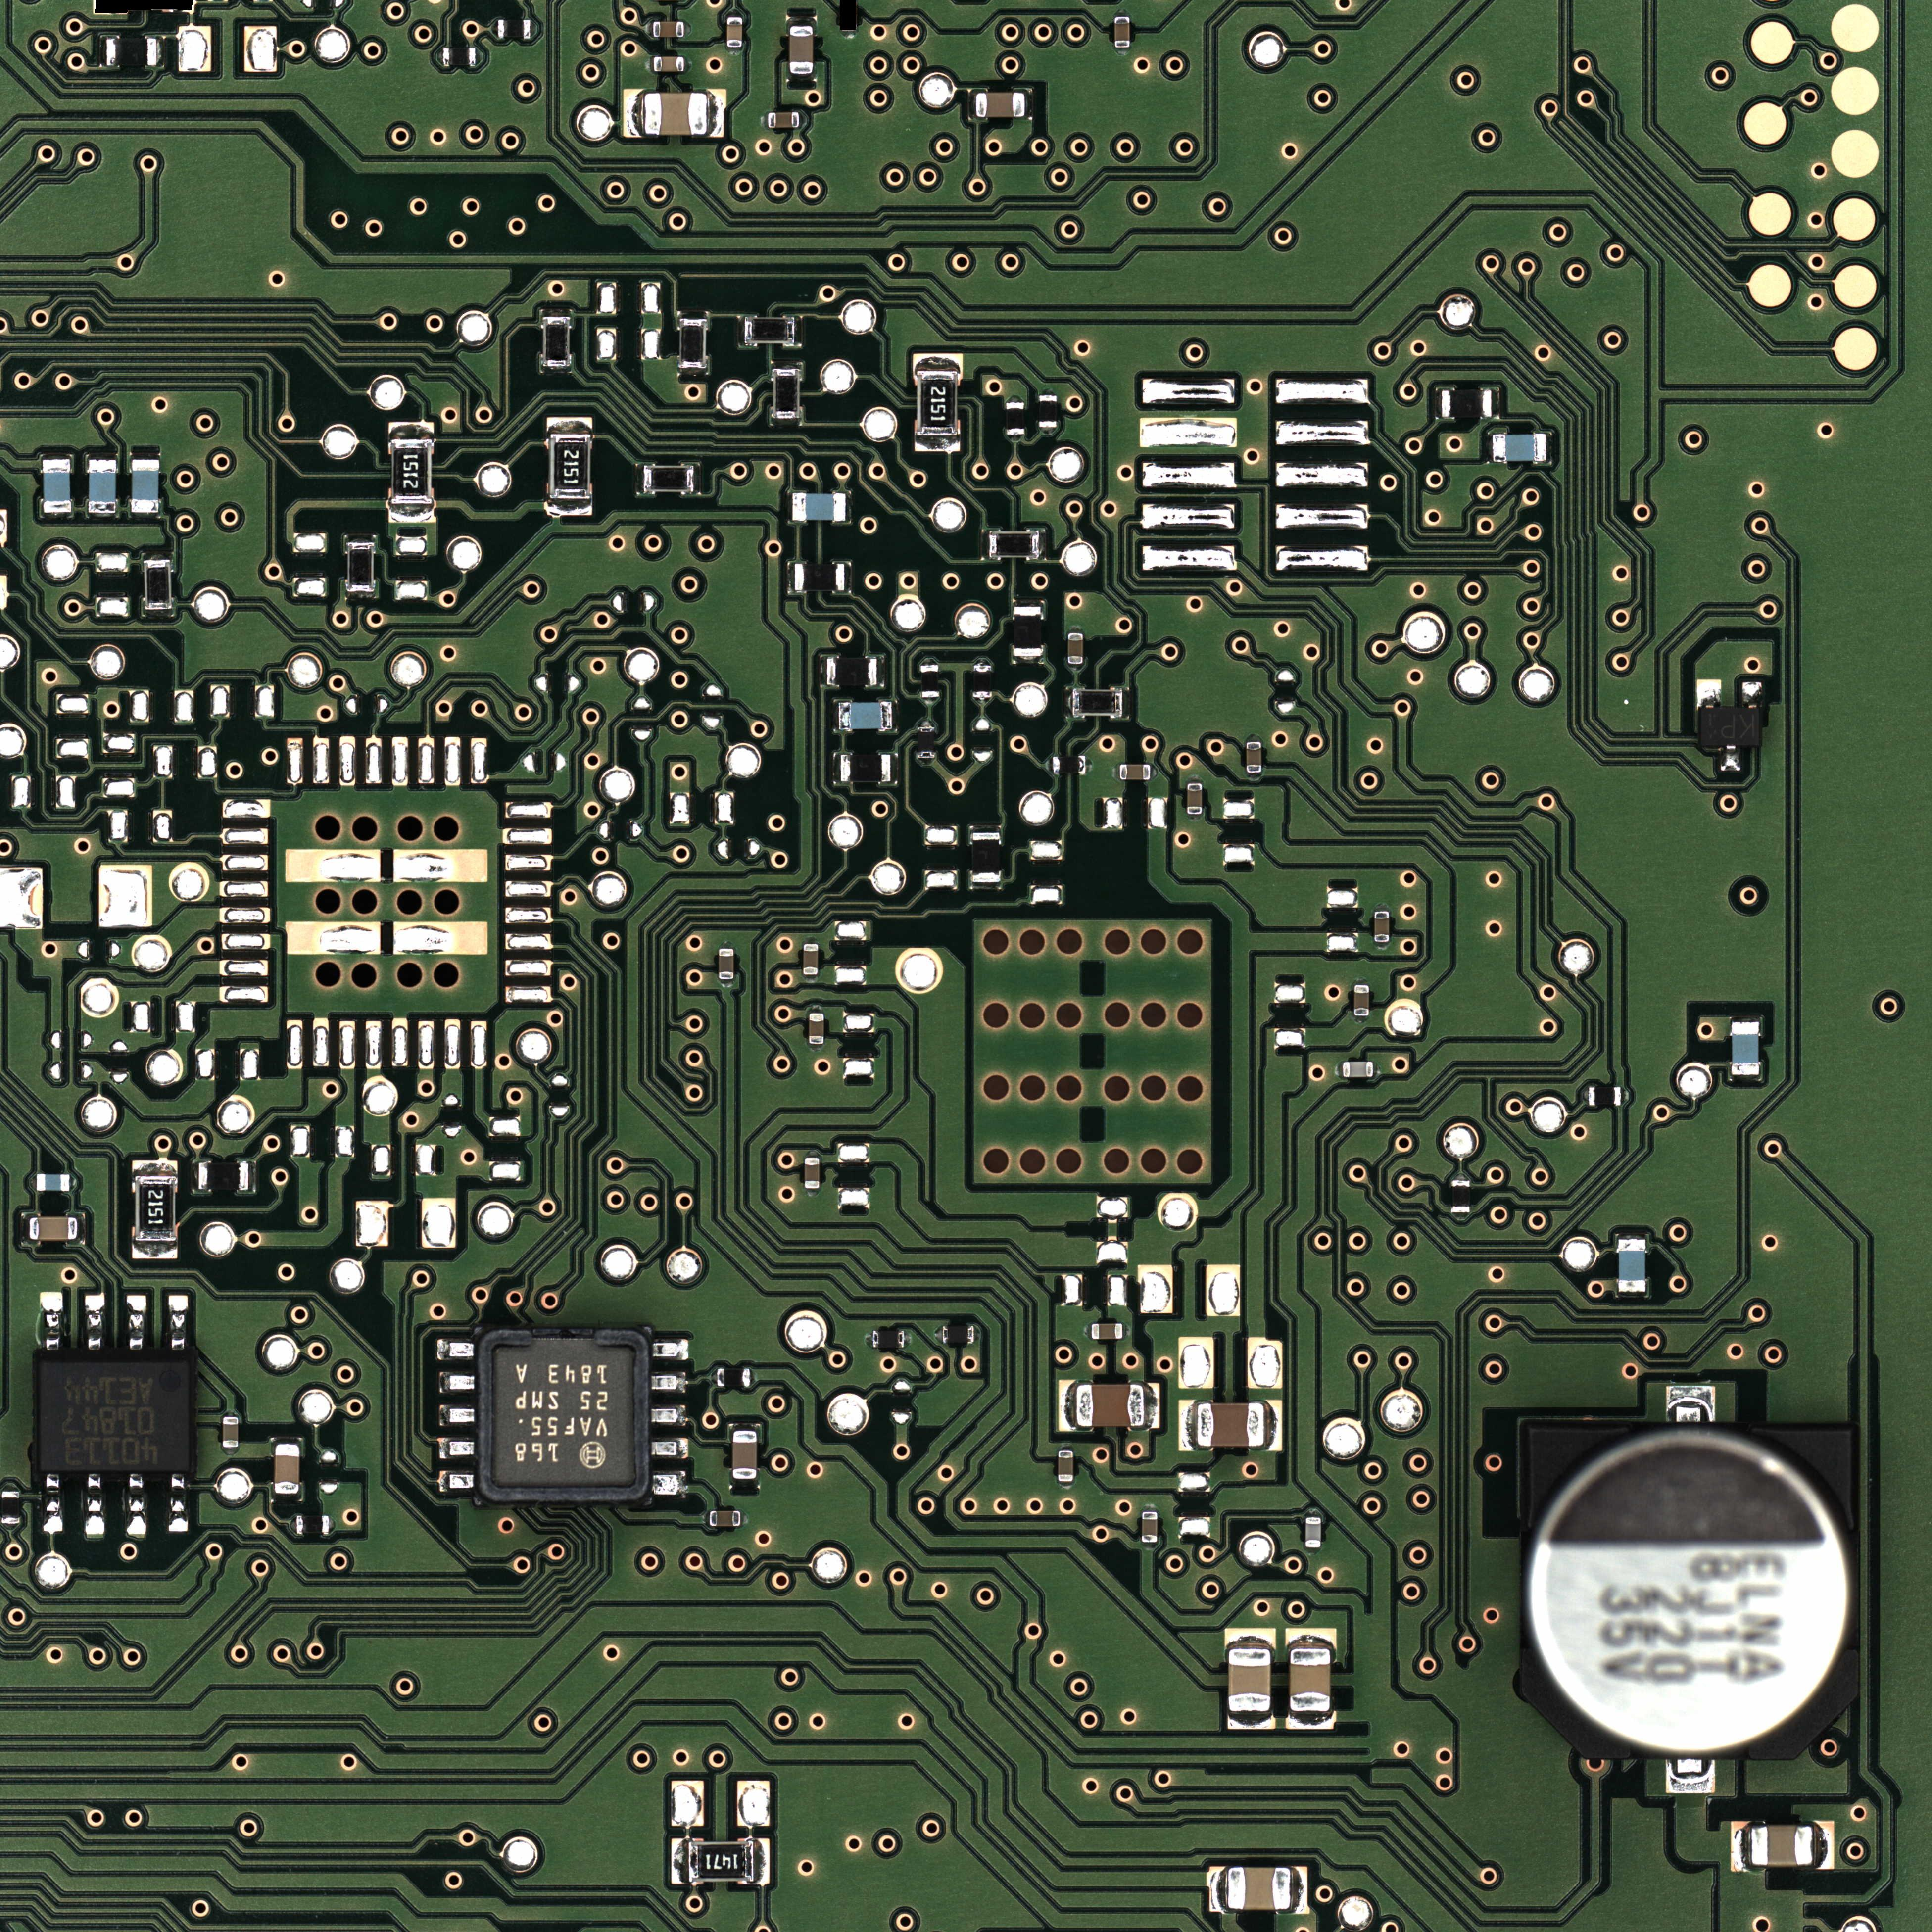Package: (1516, 1419, 1859, 1757), (476, 1334, 649, 1497), (39, 1362, 189, 1472), (1198, 1403, 1265, 1445), (1076, 1385, 1145, 1426), (391, 441, 433, 504), (136, 1177, 177, 1242), (688, 1842, 754, 1882), (1228, 1649, 1270, 1711), (916, 372, 957, 435), (550, 435, 591, 499), (1290, 1649, 1330, 1713), (644, 94, 706, 134), (1752, 1826, 1813, 1867), (1228, 1868, 1290, 1909), (1698, 708, 1760, 747), (1493, 433, 1546, 462), (131, 460, 159, 513), (88, 460, 117, 513), (42, 460, 71, 513), (826, 658, 878, 686), (1619, 1238, 1645, 1292), (1732, 1023, 1759, 1076), (839, 702, 892, 729), (839, 702, 892, 729), (793, 494, 846, 520), (793, 494, 846, 520), (1442, 389, 1491, 418), (106, 37, 156, 65), (1014, 607, 1042, 656), (840, 754, 890, 782), (198, 1162, 248, 1191), (971, 833, 1000, 881), (745, 317, 794, 343), (794, 564, 844, 591), (1072, 690, 1122, 717), (644, 465, 694, 492), (989, 531, 1039, 557), (773, 368, 800, 418), (543, 317, 570, 366), (679, 318, 706, 368), (145, 561, 172, 609), (977, 92, 1024, 117), (732, 1431, 757, 1479), (789, 27, 814, 74), (274, 1445, 299, 1493), (349, 543, 373, 591), (30, 1217, 78, 1240), (717, 1368, 750, 1387), (1451, 1180, 1470, 1214), (497, 19, 531, 39), (1039, 395, 1058, 428), (1589, 1086, 1621, 1106), (920, 665, 939, 697), (1053, 755, 1086, 773), (1007, 402, 1024, 435), (2, 1491, 19, 1523), (872, 1330, 904, 1348), (297, 1516, 329, 1534), (444, 48, 476, 65), (973, 665, 991, 697), (550, 1079, 568, 1111), (37, 1175, 71, 1191), (1141, 1511, 1157, 1543), (1246, 741, 1261, 773), (1306, 1516, 1322, 1548), (653, 21, 685, 37), (768, 111, 800, 127), (943, 1327, 975, 1343), (718, 948, 734, 980), (1067, 633, 1083, 663), (1092, 1323, 1122, 1339), (803, 945, 819, 975), (223, 1417, 239, 1447), (727, 18, 743, 48), (1353, 985, 1369, 1016), (1120, 764, 1150, 780), (918, 727, 934, 757), (1187, 784, 1203, 814), (709, 1511, 740, 1527), (1343, 1062, 1373, 1077), (1115, 18, 1131, 48), (1058, 1451, 1074, 1481), (809, 1014, 824, 1044), (805, 1157, 819, 1189), (1375, 911, 1389, 943), (653, 57, 683, 71)
Solder: (1667, 1385, 1716, 1422), (1667, 1759, 1714, 1792), (126, 1474, 147, 1539), (41, 1292, 62, 1352), (85, 1474, 104, 1537), (42, 1474, 64, 1532), (168, 1474, 188, 1532), (85, 1293, 104, 1350), (1730, 1821, 1752, 1872), (168, 1295, 188, 1350), (127, 1295, 147, 1350), (623, 88, 644, 138), (1813, 1821, 1835, 1868), (1224, 1628, 1276, 1647), (1286, 1628, 1336, 1647), (1058, 1380, 1076, 1431), (1208, 1867, 1228, 1913), (1178, 1401, 1196, 1451), (708, 88, 725, 138), (651, 1470, 686, 1495), (1286, 1713, 1334, 1730), (133, 1242, 179, 1260), (389, 504, 435, 522), (671, 1838, 688, 1884), (1228, 1713, 1274, 1730), (439, 1437, 474, 1460), (439, 1468, 474, 1491), (1265, 1401, 1281, 1451), (913, 354, 962, 370), (545, 501, 593, 517), (1292, 1867, 1307, 1914), (653, 1339, 688, 1361), (439, 1405, 474, 1426), (547, 418, 593, 433), (915, 437, 961, 453), (387, 423, 433, 439), (754, 1838, 770, 1884), (651, 1438, 688, 1458), (437, 1339, 474, 1359), (133, 1161, 177, 1177), (1697, 679, 1721, 708), (651, 1405, 686, 1424), (651, 1373, 686, 1392), (1145, 1384, 1159, 1428), (439, 1373, 474, 1391), (1743, 681, 1762, 708), (1721, 747, 1741, 771), (786, 74, 817, 83), (970, 824, 1001, 833), (968, 88, 977, 120), (1491, 387, 1500, 419), (729, 1479, 759, 1488), (786, 16, 816, 25), (678, 310, 708, 318), (1122, 688, 1131, 718), (541, 308, 571, 317), (87, 451, 117, 460), (143, 609, 173, 617), (980, 529, 989, 559), (694, 464, 702, 494), (794, 317, 803, 347), (1024, 88, 1033, 119), (635, 464, 644, 494), (1730, 1014, 1760, 1023), (832, 754, 840, 782), (1615, 1292, 1649, 1299), (1729, 1076, 1762, 1083), (1012, 600, 1044, 607), (345, 591, 377, 598), (1617, 1231, 1649, 1238), (345, 534, 377, 541), (249, 1161, 257, 1192), (1546, 432, 1553, 464), (129, 513, 161, 520), (770, 419, 801, 426), (272, 1437, 303, 1444), (131, 451, 161, 458), (844, 563, 851, 593), (87, 513, 117, 520), (971, 883, 1001, 890), (771, 361, 801, 368), (143, 552, 173, 559), (738, 317, 745, 347), (272, 1495, 303, 1502), (890, 754, 897, 784), (678, 368, 708, 375), (892, 701, 899, 731), (1065, 688, 1072, 718), (157, 37, 165, 67), (787, 563, 794, 593), (1014, 656, 1044, 663), (1435, 389, 1442, 419), (878, 656, 885, 686), (21, 1214, 28, 1244), (191, 1161, 198, 1191), (541, 366, 571, 373), (1486, 433, 1493, 464), (832, 701, 839, 731), (42, 451, 71, 458), (1039, 531, 1046, 559), (78, 1214, 85, 1242), (99, 37, 106, 65), (731, 1422, 759, 1430), (0, 1483, 19, 1491), (41, 513, 73, 518), (846, 492, 851, 524), (821, 656, 826, 686), (787, 492, 793, 522), (934, 1327, 943, 1343), (740, 1511, 748, 1527), (223, 1447, 239, 1456), (1187, 775, 1203, 784), (1115, 9, 1131, 18), (1621, 1086, 1628, 1106), (1451, 1214, 1470, 1221), (290, 1516, 297, 1536), (750, 1368, 757, 1387), (1451, 1173, 1470, 1180), (1582, 1086, 1589, 1106), (1304, 1548, 1322, 1555), (531, 19, 538, 37), (1141, 1504, 1159, 1511), (1373, 1062, 1380, 1079), (646, 57, 655, 71), (1040, 428, 1058, 435), (725, 11, 743, 18), (1086, 755, 1093, 773), (973, 658, 991, 665), (904, 1330, 911, 1348), (865, 1330, 872, 1348), (476, 48, 483, 65), (437, 48, 444, 65), (920, 658, 938, 665), (922, 697, 939, 704), (2, 1525, 19, 1532), (973, 697, 991, 704), (1007, 435, 1024, 442), (329, 1516, 336, 1534), (1246, 734, 1261, 741), (1246, 773, 1261, 780), (1085, 1323, 1092, 1339), (1058, 1444, 1074, 1451), (803, 975, 819, 982), (1123, 1323, 1131, 1339), (685, 21, 692, 37), (1115, 48, 1131, 55), (685, 57, 692, 73), (800, 111, 807, 127), (1336, 1062, 1343, 1077), (1141, 1543, 1157, 1550), (718, 980, 734, 987), (1067, 663, 1083, 671), (809, 1007, 824, 1014), (809, 1044, 824, 1051), (1187, 814, 1203, 821), (1046, 757, 1053, 773), (223, 1410, 239, 1417), (1353, 1016, 1369, 1023), (1373, 904, 1389, 911), (725, 48, 741, 55), (918, 720, 934, 727), (718, 941, 734, 948), (1067, 626, 1083, 633), (1113, 764, 1120, 780), (1150, 764, 1157, 780), (805, 1150, 821, 1157), (1353, 978, 1369, 985), (646, 21, 653, 37), (805, 1191, 821, 1198), (842, 30, 858, 37), (975, 1325, 980, 1345), (71, 1173, 76, 1192), (30, 1173, 35, 1192), (916, 759, 936, 764), (1375, 941, 1389, 948), (761, 113, 768, 127), (492, 19, 497, 37), (1007, 396, 1024, 402), (1039, 387, 1056, 393), (704, 1511, 709, 1527), (803, 938, 819, 943), (1058, 1483, 1074, 1488), (1306, 1511, 1322, 1516), (711, 1369, 717, 1385), (552, 1074, 568, 1079), (552, 1111, 568, 1116)
